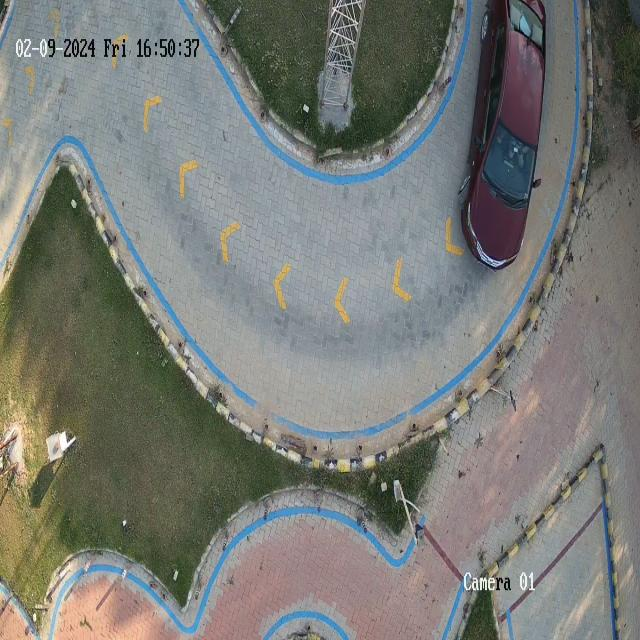car: (460, 0, 548, 272)
